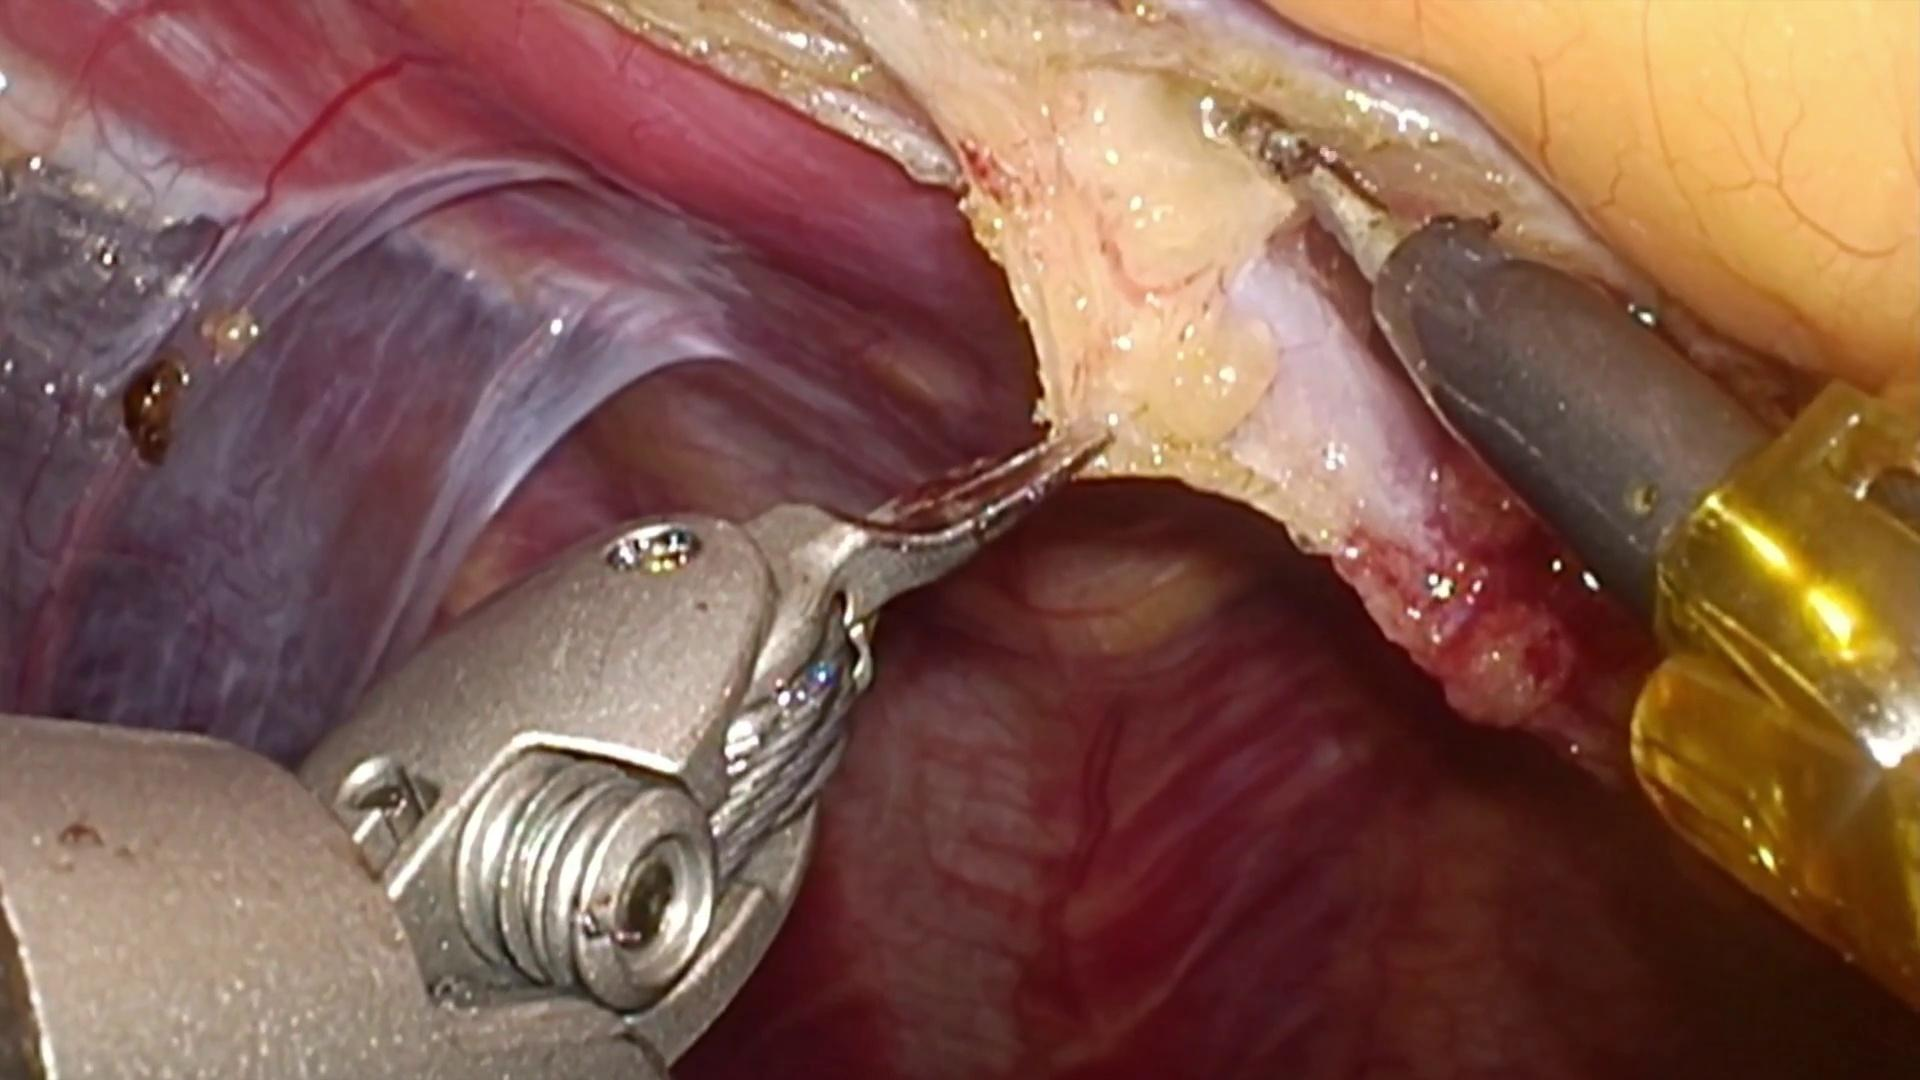Cautery_Spatula: (1246, 108, 1784, 647)
Debakey: (740, 421, 1122, 687)
